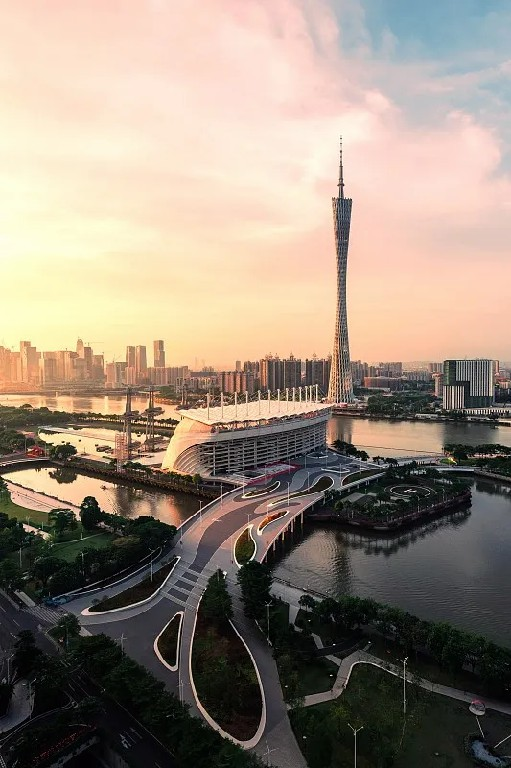Canton: (325, 133, 354, 405)
